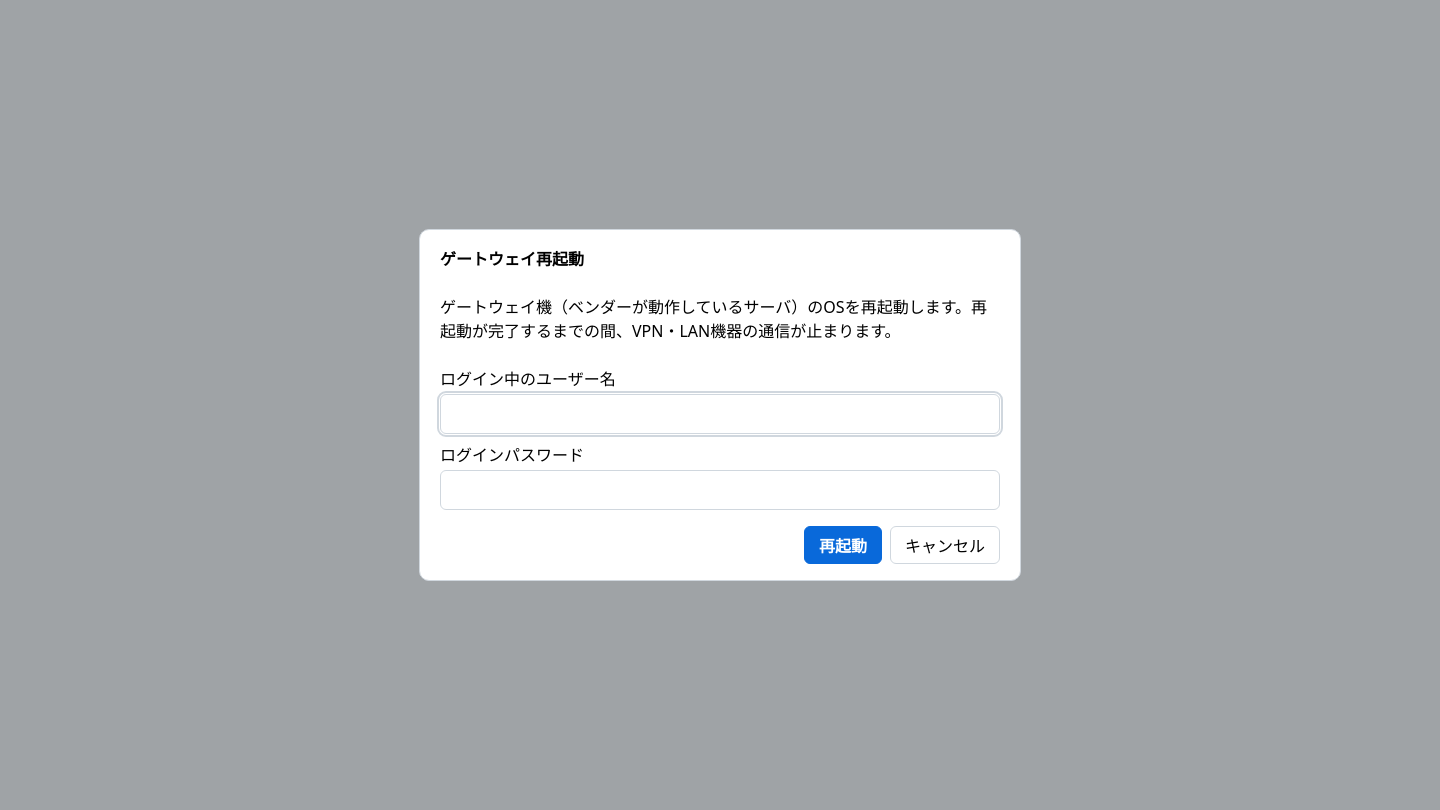
Test: RebootDialog › パスワードを送信し、受け付けられたら依頼した旨を表示する
Type "correct-password" into the password field labelled "ログインパスワード" at (720, 490), box [440,470,1000,510]
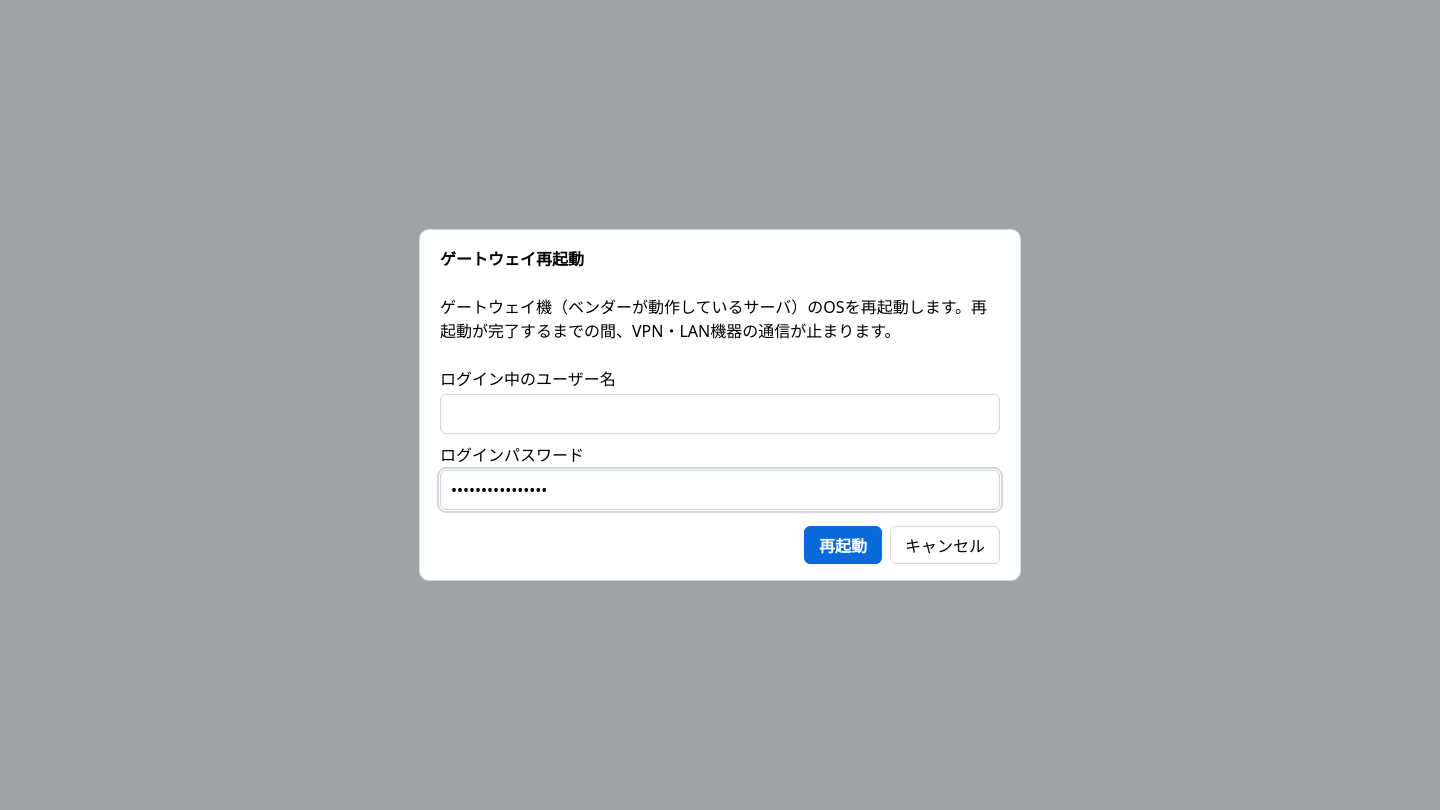
Click the button "再起動" at (843, 545), box [804,526,882,564]
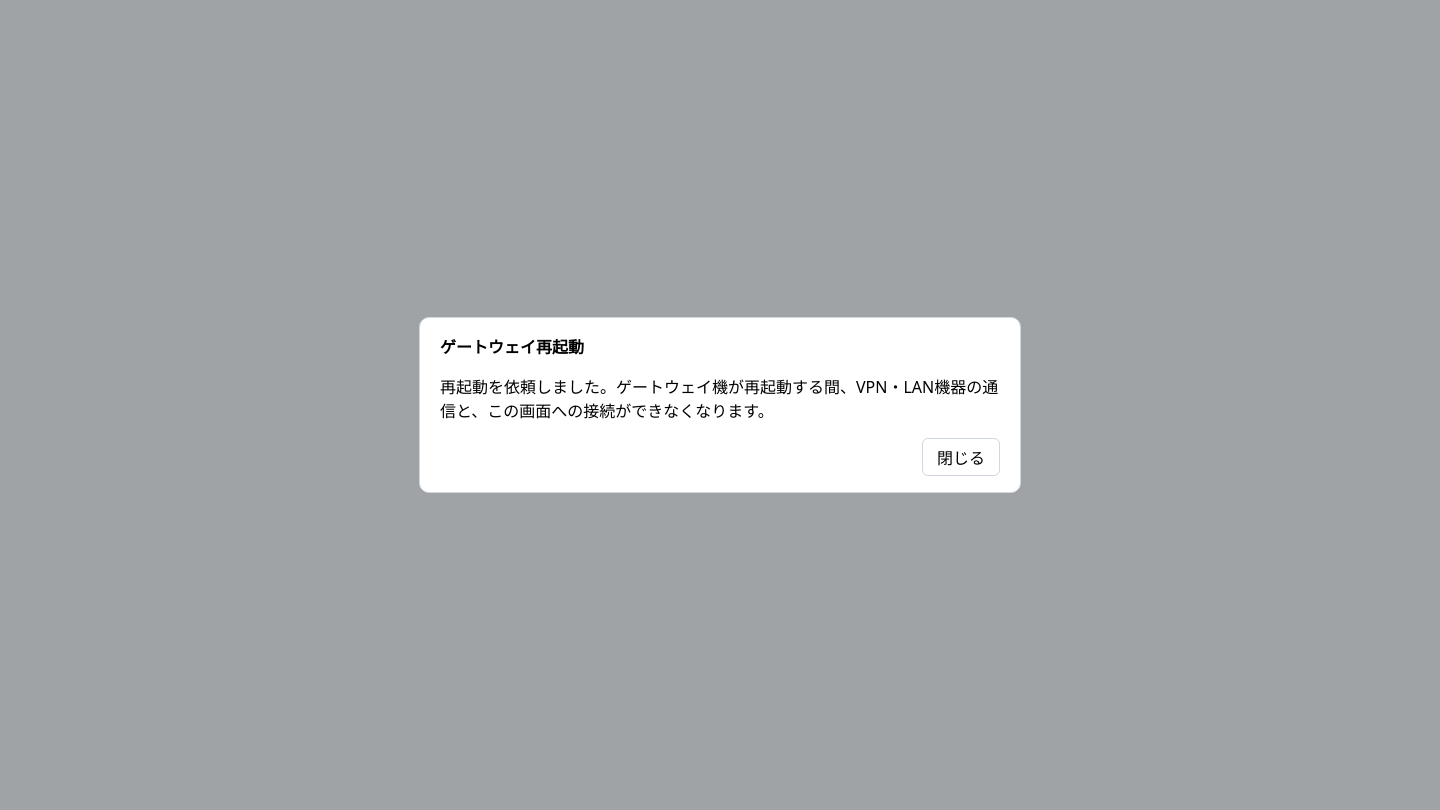
Expected: the message shows "再起動を依頼しました", [440,376,998,422]
